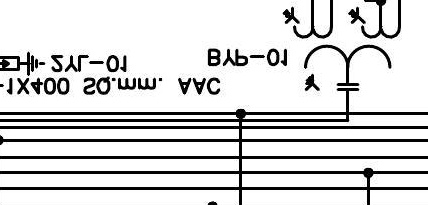115_cvt_3p: (282, 6, 402, 91)
